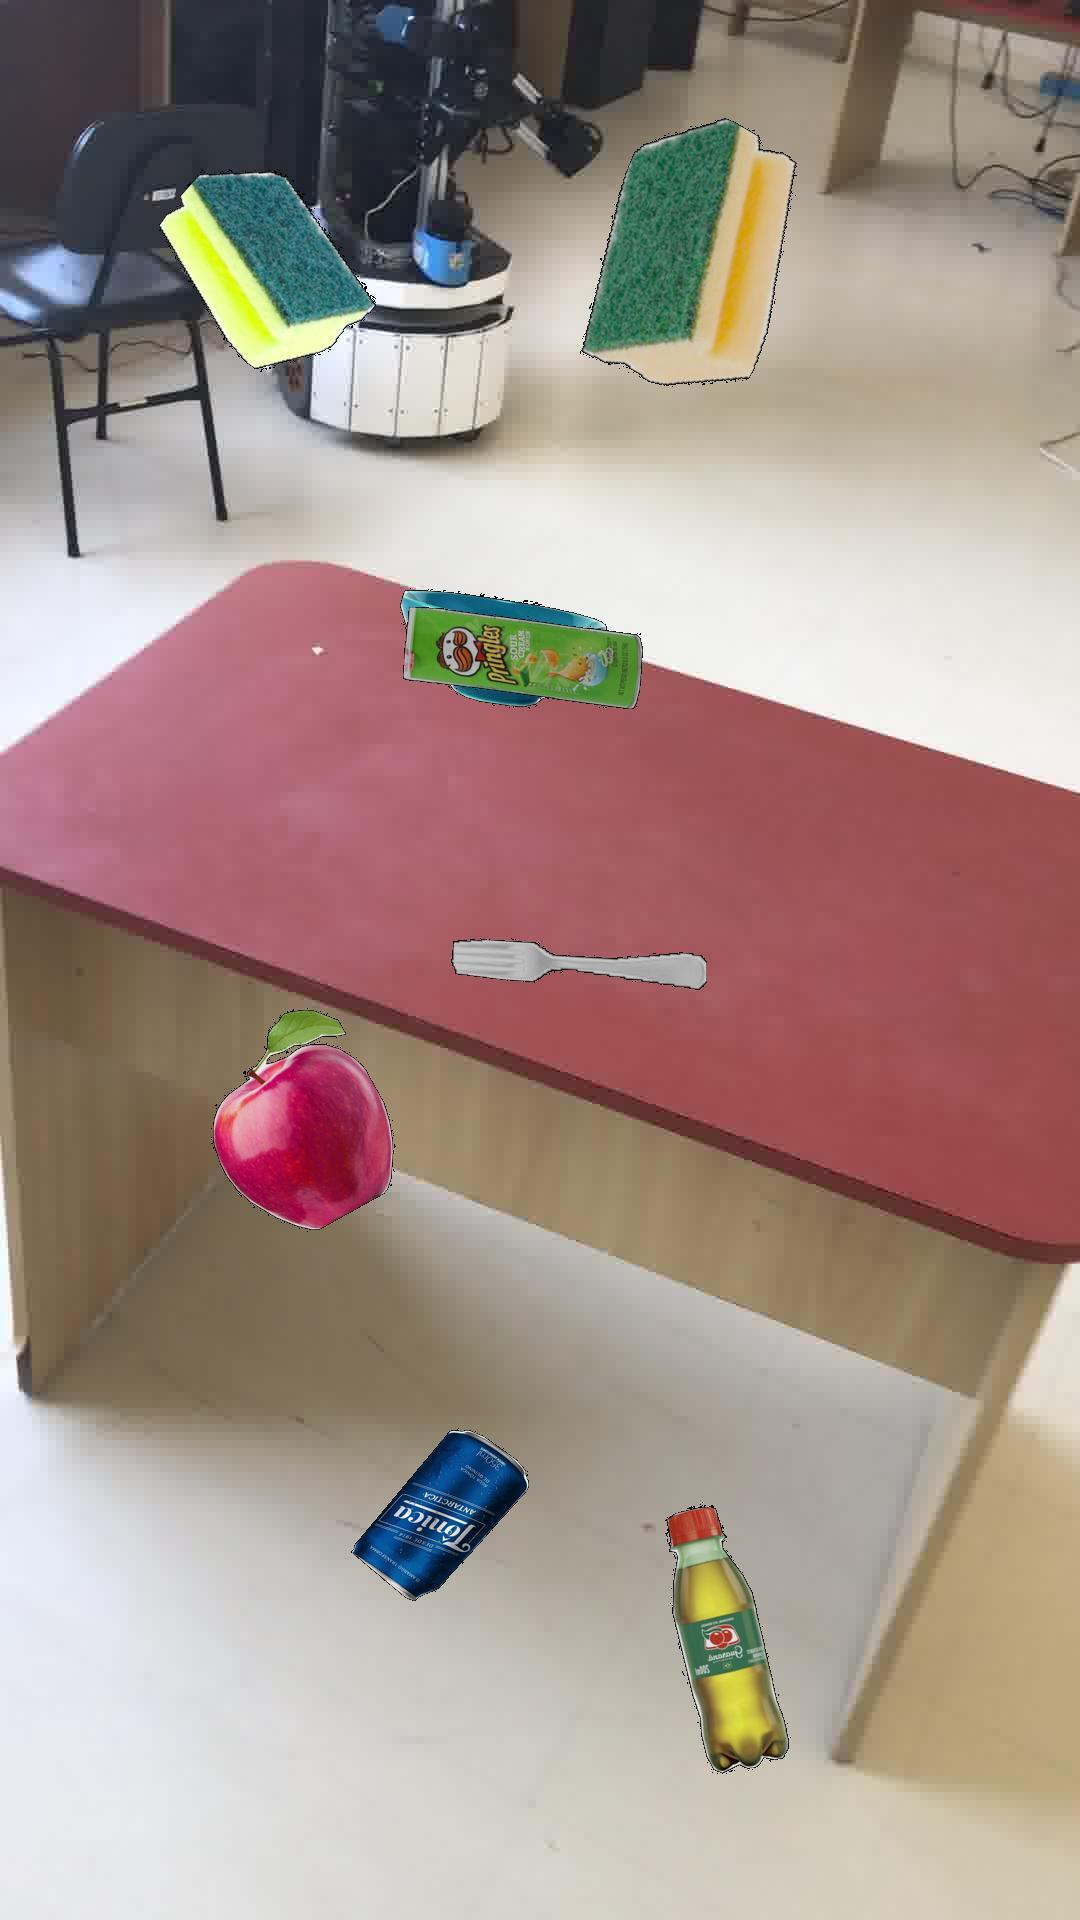apple: (211, 1007, 393, 1229)
bowl: (398, 588, 605, 707)
fork: (450, 938, 705, 989)
guarana: (663, 1503, 787, 1772)
pringles: (401, 607, 641, 708)
sponge: (579, 116, 795, 385), (157, 170, 375, 368)
tonic: (349, 1428, 527, 1600)
